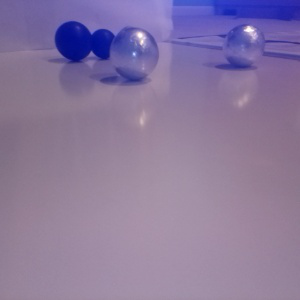alive_ball: (109, 26, 159, 80), (223, 24, 265, 68)
dead_ball: (53, 19, 92, 60), (90, 27, 117, 59)
